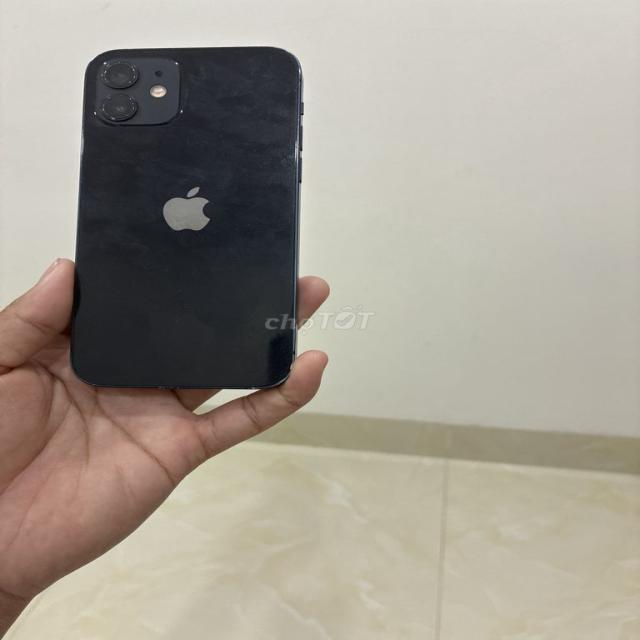gen_12_13: (65, 43, 309, 397)
